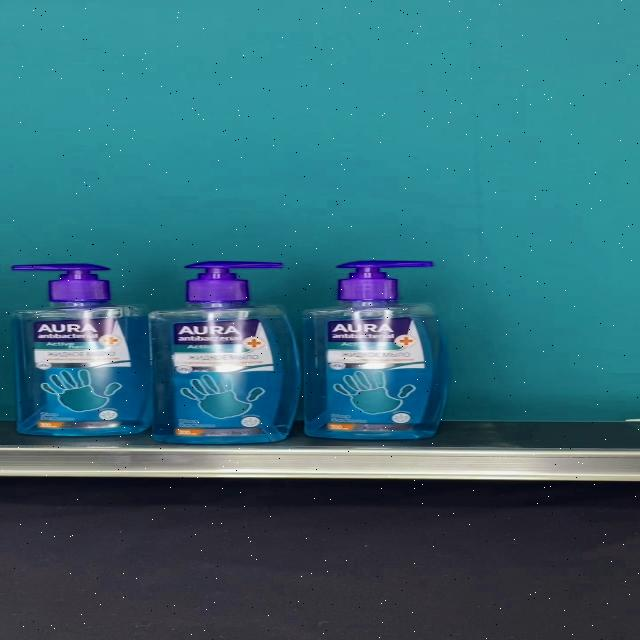Bottle: (147, 261, 302, 444), (300, 259, 449, 442), (11, 263, 152, 436)
Cap: (183, 261, 282, 303), (336, 260, 436, 301), (12, 263, 110, 301)
